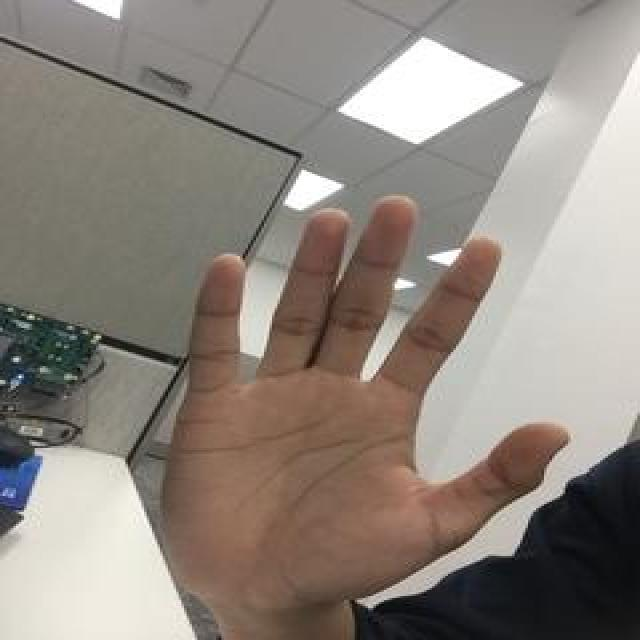hand: (154, 193, 570, 609)
